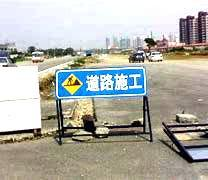sign: (56, 70, 147, 96)
